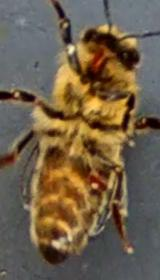varroa_mite: (76, 164, 114, 204)
